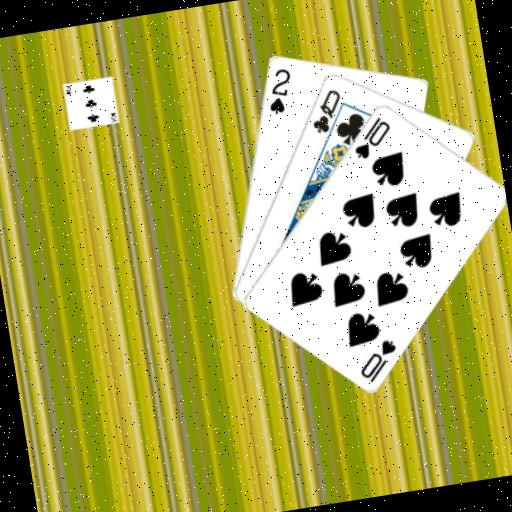10S: (351, 334, 402, 386), (346, 111, 396, 161)
2S: (260, 64, 298, 117)
QC: (303, 84, 347, 136)
